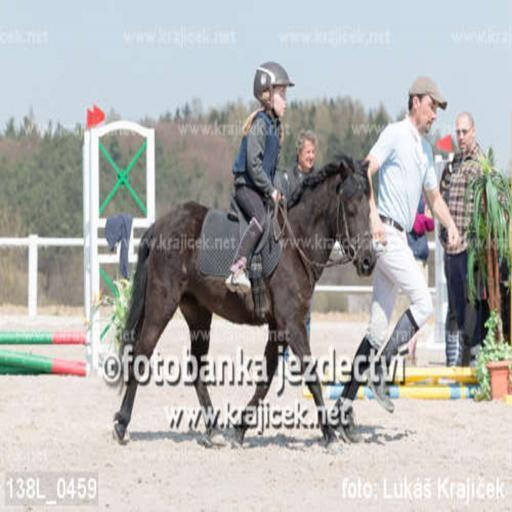horse: (105, 142, 377, 448)
